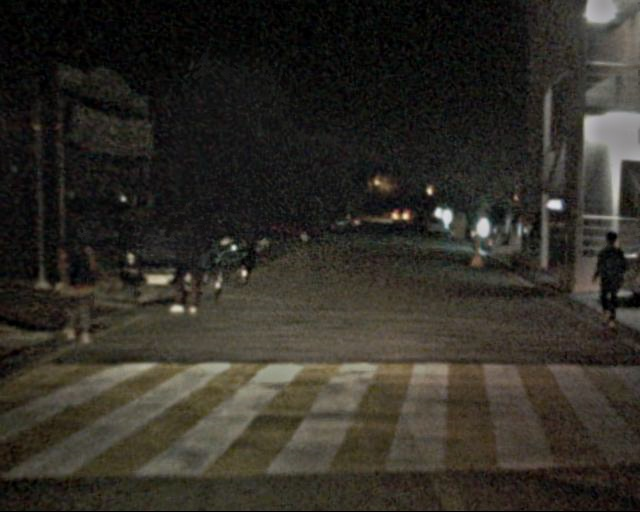person: (50, 222, 113, 349), (167, 214, 215, 319), (589, 233, 631, 331)
